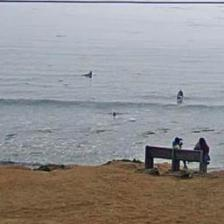surfer: (82, 71, 94, 78), (178, 89, 184, 97), (112, 112, 115, 117)
